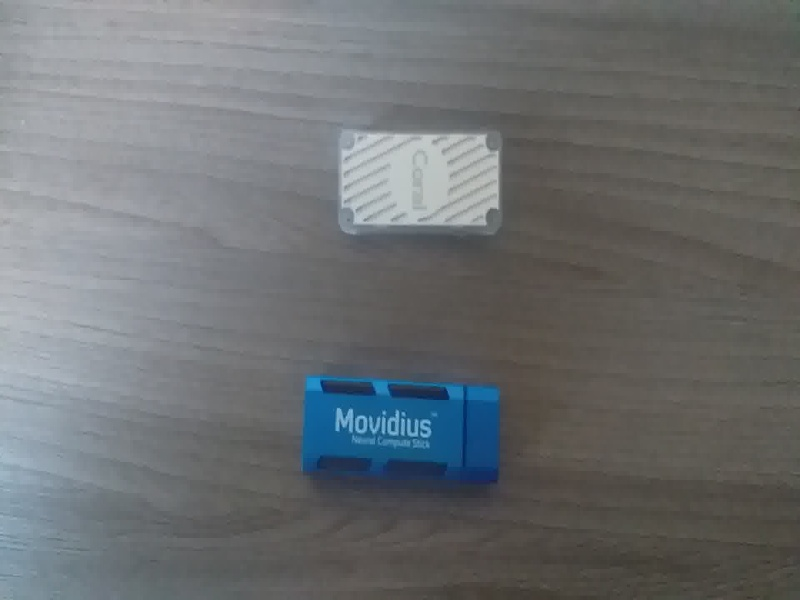coral: (330, 125, 515, 244)
movidius: (290, 362, 510, 495)
